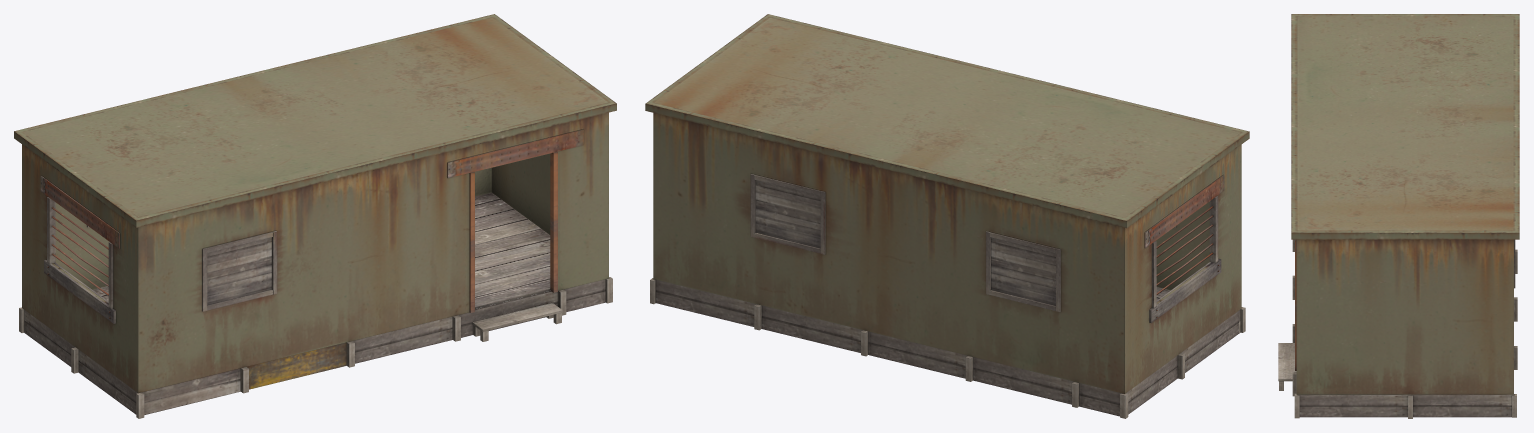
The picture shows the model from 3 angles, left to right: view 1: azimuth 30°, elevation 25°; view 2: azimuth 150°, elevation 25°; view 3: azimuth 270°, elevation 25°; orthographic projection. The views are drawn at different scales.
Parts seen in each view (by area): view 1: Building; view 2: Building; view 3: Building.
Part boxes in pixels (left/top/right/bottom): Building: left=14, top=14, right=616, bottom=418; Building: left=645, top=14, right=1249, bottom=418; Building: left=1278, top=14, right=1519, bottom=418.
Size of the model in its own units: 14.3 by 5.68 by 6.66.
Materials: 1 (1 with a texture image).
